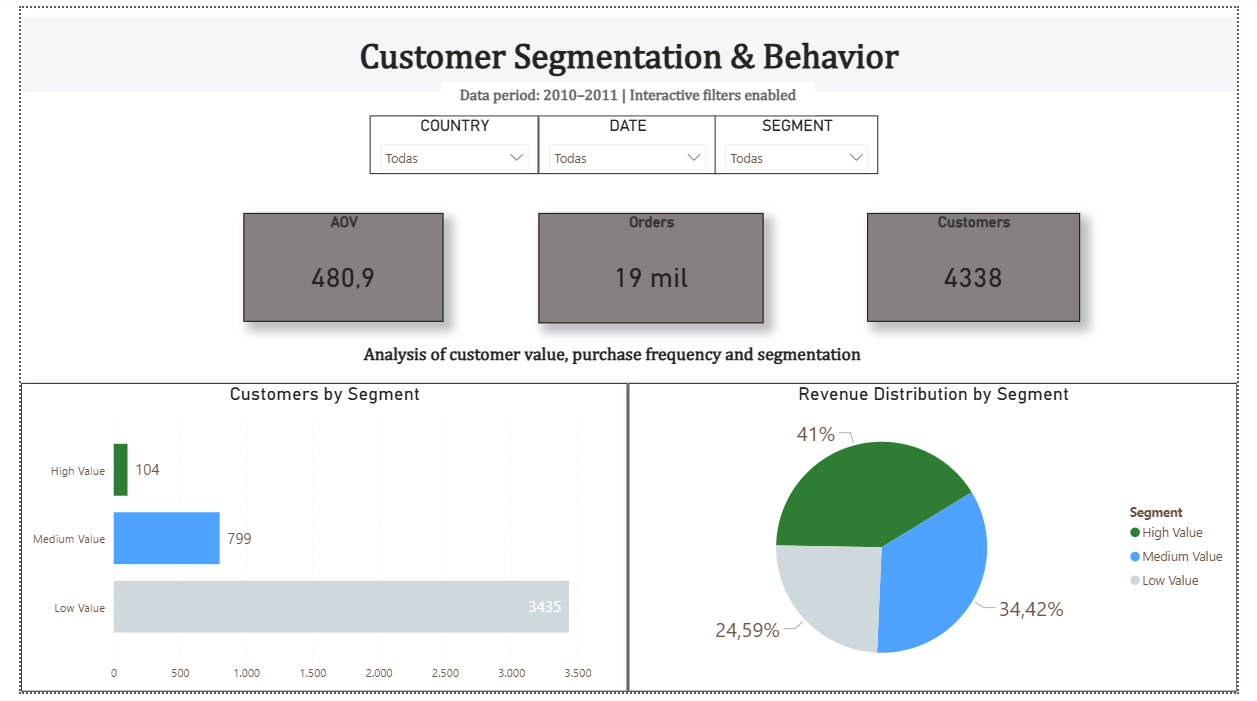

The dashboard page shown, as its layout file describes it:
{"tool":"powerbi","page":{"name":"Customer Segmentation","canvas":[1280,720],"ordinal":1},"visuals":[{"type":"textbox","box":[340.8,350,563.2,64.5],"z":0},{"type":"barChart","title":"Customers by Segment","fields":{"Category":["Customer_Summary.Segment"],"Y":["CountNonNull(Customer_Summary.CustomerID)"]},"box":[0,394.7,638.2,325],"z":2000},{"type":"textbox","box":[0,9.2,1280.3,78.9],"z":3000},{"type":"pieChart","title":"Revenue Distribution by Segment","fields":{"Category":["Customer_Summary.Segment"],"Y":["Sum(Customer_Summary.Total_Spent)"]},"box":[639.5,394.7,640.8,325],"z":4000},{"type":"card","title":"AOV","fields":{"Values":["Consulta1.AOV"]},"box":[234.2,215.8,210.5,114.5],"z":5000},{"type":"card","title":"Orders","fields":{"Values":["Consulta1.Orders_Correctos"]},"box":[544.7,215.8,236.8,115.8],"z":6000},{"type":"card","title":"Customers","fields":{"Values":["Consulta1.Clientes_Unicos"]},"box":[890.8,215.8,223.7,114.5],"z":7000},{"type":"slicer","title":"COUNTRY","fields":{"Values":["Consulta1.Country"]},"box":[367.4,113.7,177.6,61.8],"z":8000},{"type":"slicer","title":"DATE","fields":{"Values":["Consulta1.YearMonth"]},"box":[544.7,113.2,186.8,61.8],"z":9000},{"type":"slicer","title":"SEGMENT","fields":{"Values":["Customer_Summary.Segment"]},"box":[730.5,113.7,172.4,61.8],"z":10000},{"type":"textbox","box":[442.1,77.6,393.4,35.5],"z":10001}]}

Visuals, with their boxes in screenshot pixels (x1, y1, x2, y2), scaled from the page's 1280x720 canvas onto the 1257x701 screenshot:
textbox: bbox=(335, 341, 888, 404)
"Customers by Segment" barChart: bbox=(0, 384, 627, 700)
textbox: bbox=(0, 9, 1256, 86)
"Revenue Distribution by Segment" pieChart: bbox=(628, 384, 1256, 700)
"AOV" card: bbox=(230, 210, 437, 322)
"Orders" card: bbox=(535, 210, 767, 323)
"Customers" card: bbox=(875, 210, 1094, 322)
"COUNTRY" slicer: bbox=(361, 111, 535, 171)
"DATE" slicer: bbox=(535, 110, 718, 170)
"SEGMENT" slicer: bbox=(717, 111, 887, 171)
textbox: bbox=(434, 76, 820, 110)
